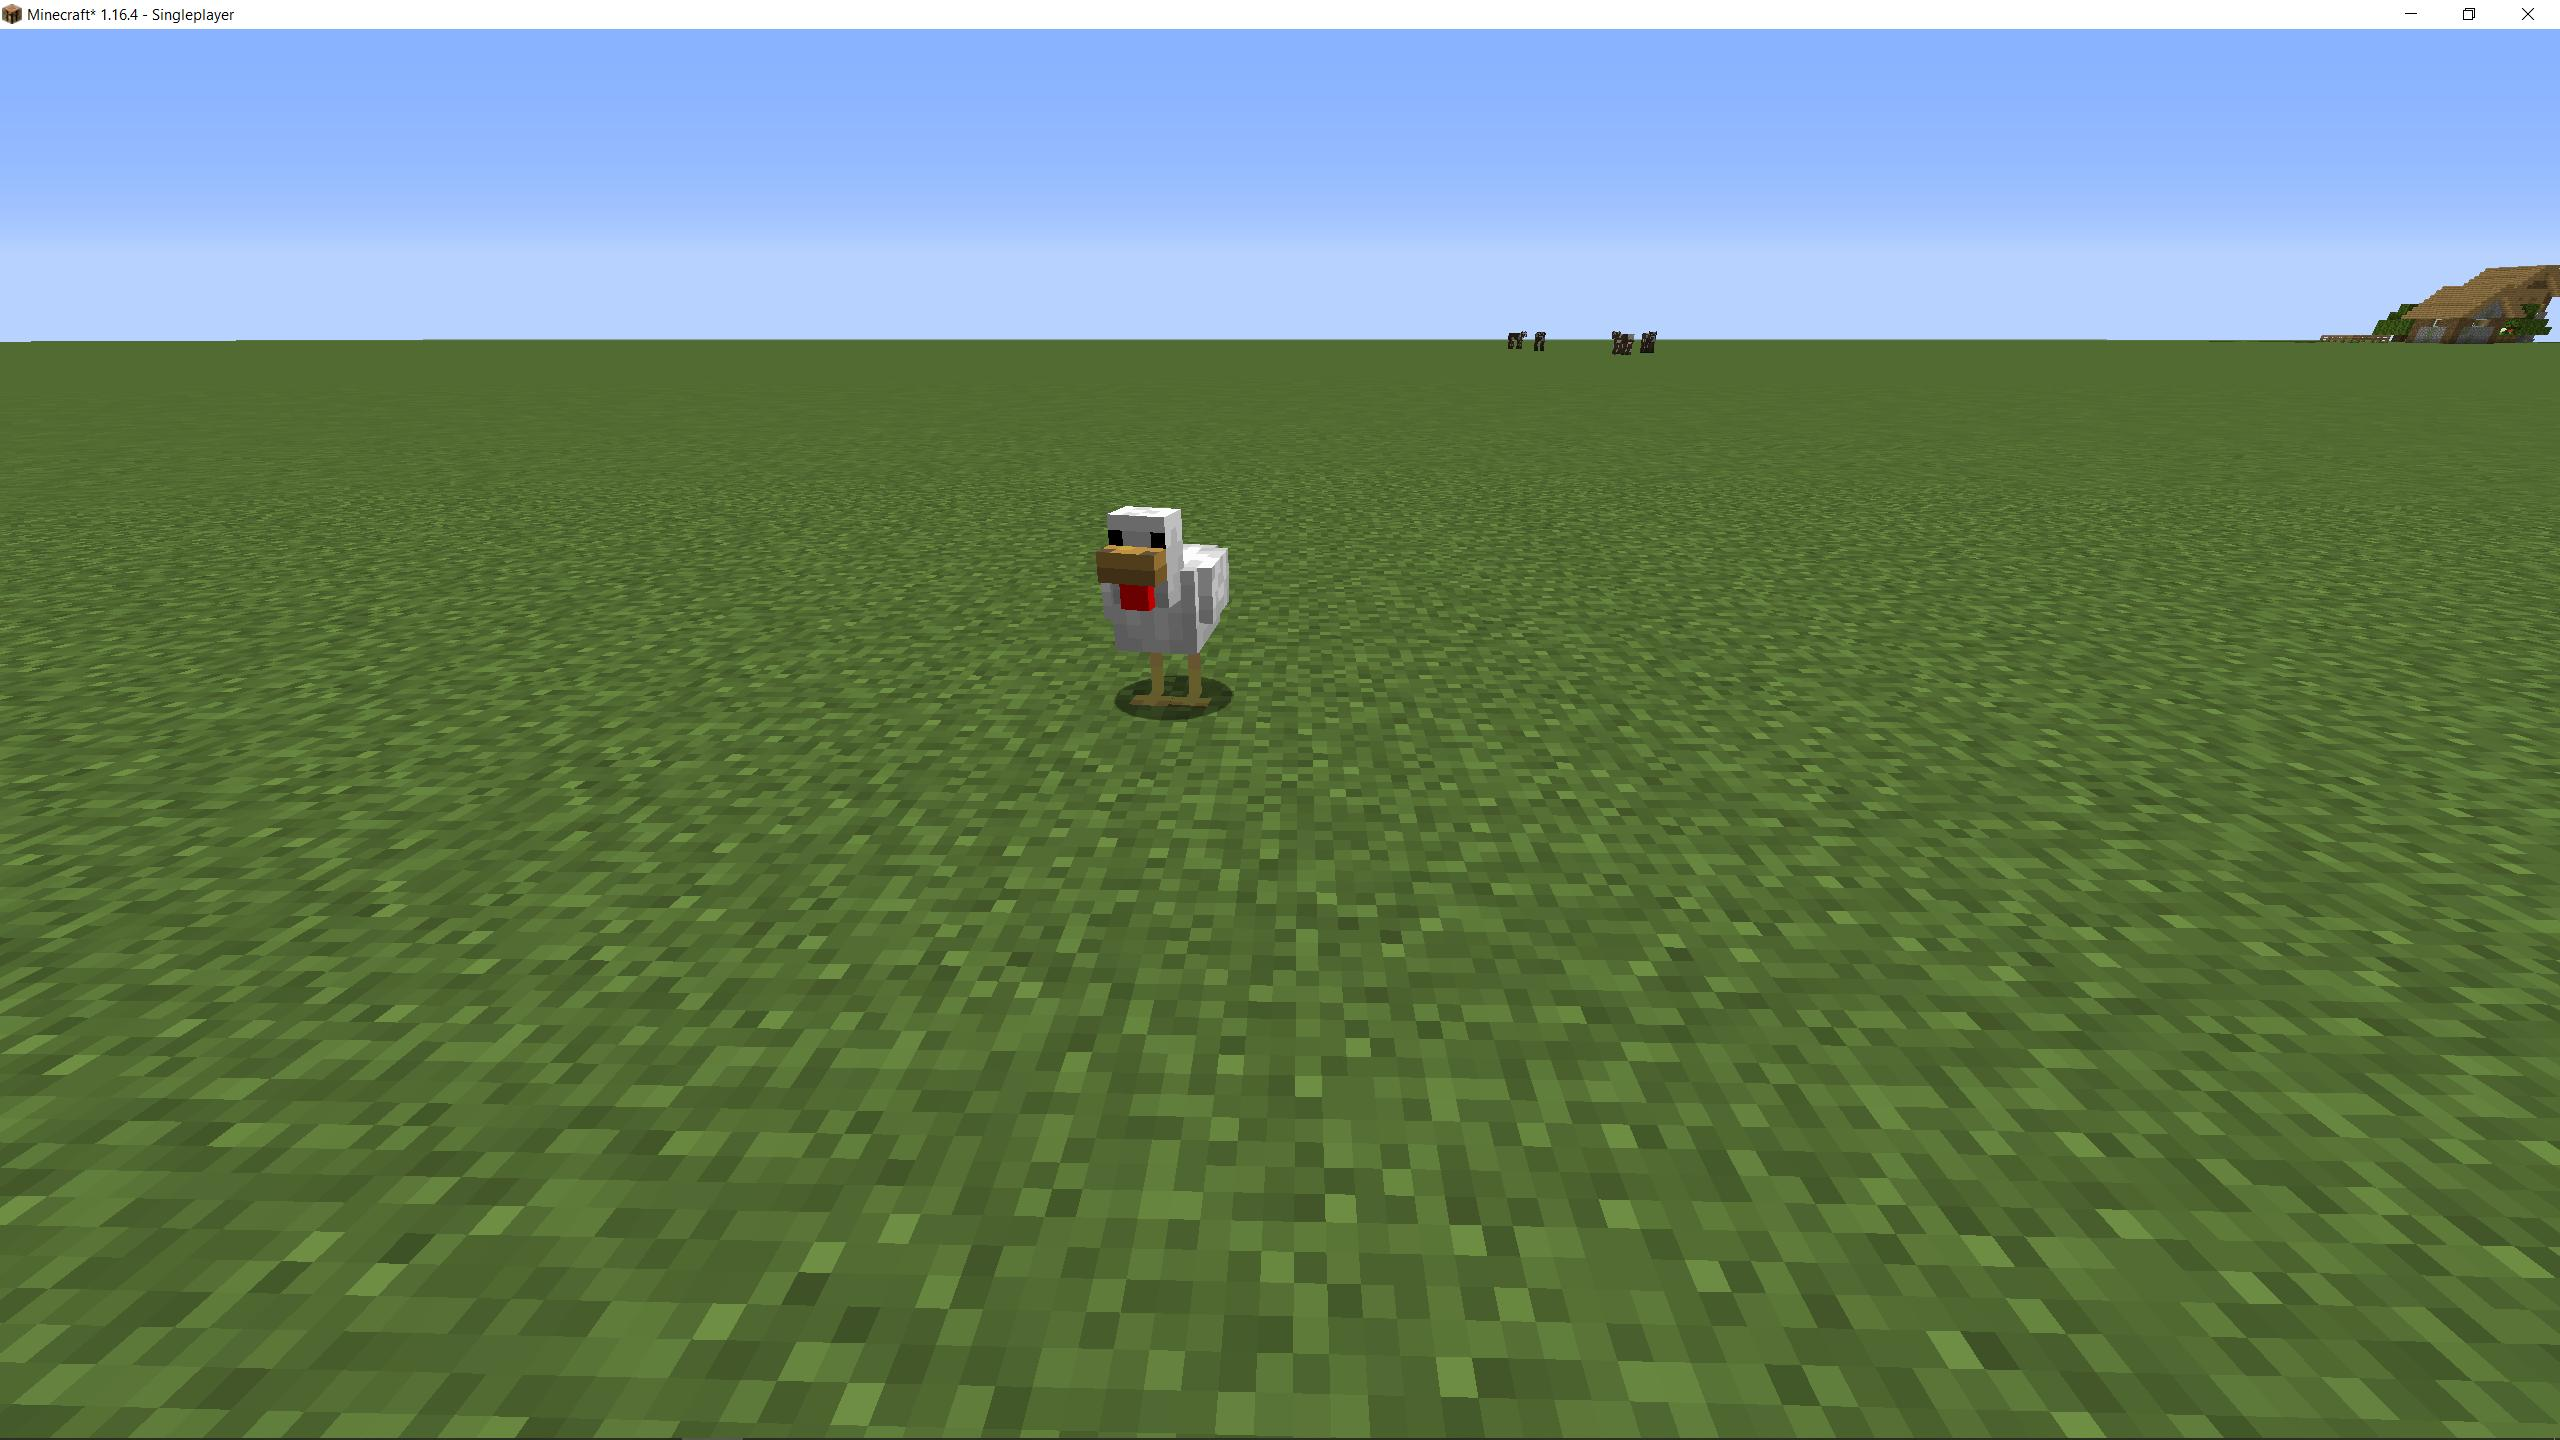chicken: (1087, 492, 1250, 723)
